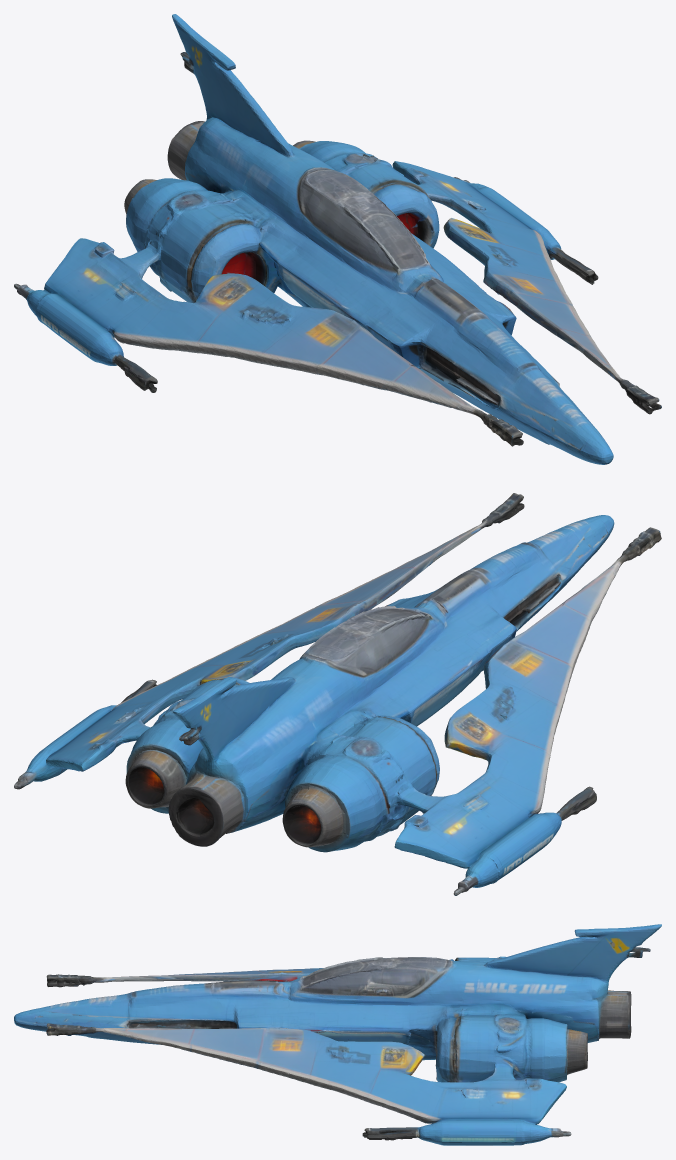
Rendered from Meshy_AI_Lets_create_a_race_sp_0107172219_texture.fbx.
3 views of the same model, one above another, from view 1: azimuth 30°, elevation 25°; view 2: azimuth 150°, elevation 25°; view 3: azimuth 270°, elevation 25° (orthographic). The views are drawn at different scales.
Visible parts, largest first — view 1: temp; view 2: temp; view 3: temp.
Boxes of the visible parts, x1=… form: temp: x1=14, y1=14, x2=661, y2=464; temp: x1=14, y1=493, x2=661, y2=895; temp: x1=14, y1=924, x2=661, y2=1145.
Size of the model in its own units: 123 by 47.74 by 200.
Materials: 1 (1 with a texture image).
